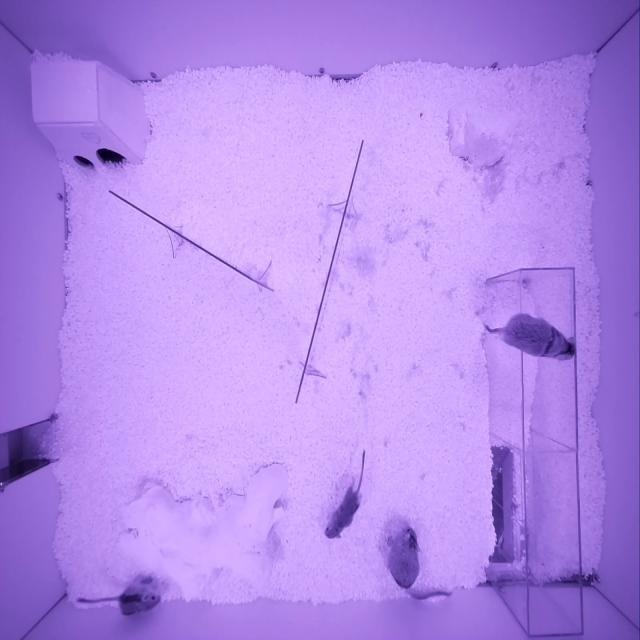adult_back: (389, 525, 421, 590)
adult_front: (501, 312, 577, 361)
pup_spotted: (325, 486, 362, 539)
pup_v_stripe: (119, 588, 161, 616)
